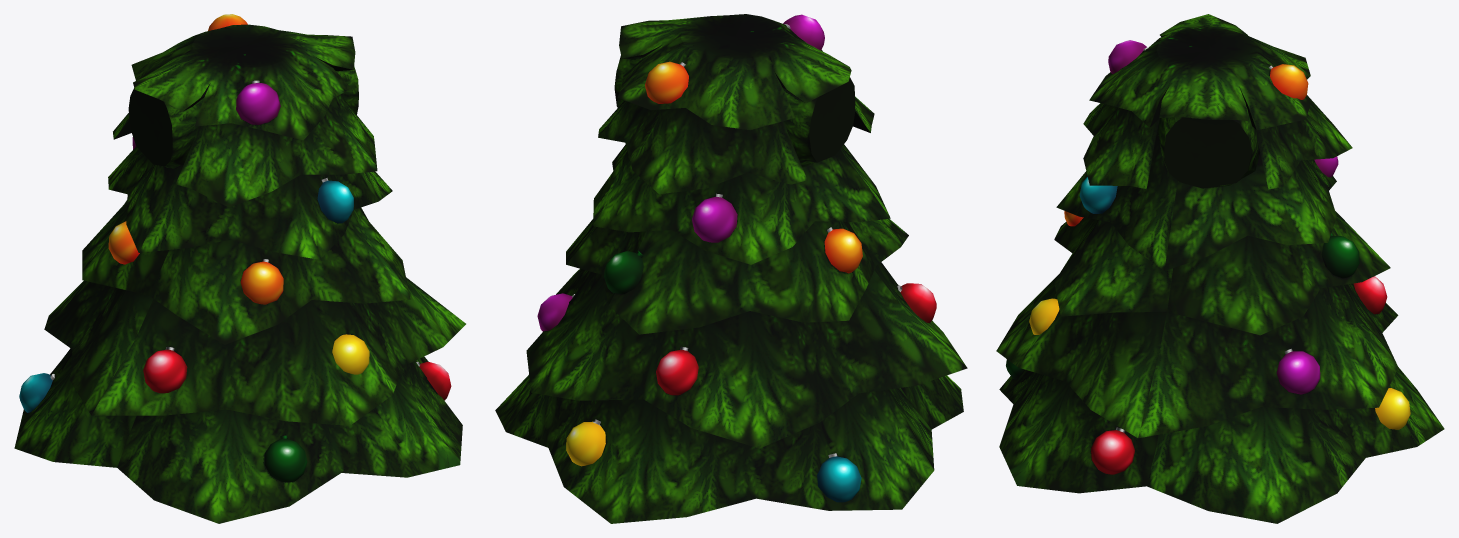
3 views of the same model, side by side, from view 1: azimuth 30°, elevation 25°; view 2: azimuth 150°, elevation 25°; view 3: azimuth 270°, elevation 25° (orthographic). The views are drawn at different scales.
Visible parts, largest first — view 1: Mesh; view 2: Mesh; view 3: Mesh.
Boxes of the visible parts, x1=… form: Mesh: x1=14, y1=14, x2=465, y2=523; Mesh: x1=495, y1=14, x2=967, y2=523; Mesh: x1=996, y1=14, x2=1444, y2=523.
Size of the model in its own units: 3.79 by 3.54 by 3.79.
